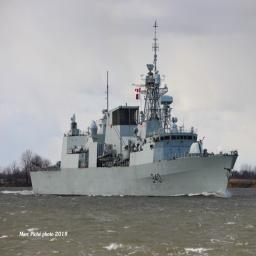Fragata: (30, 18, 240, 198)
